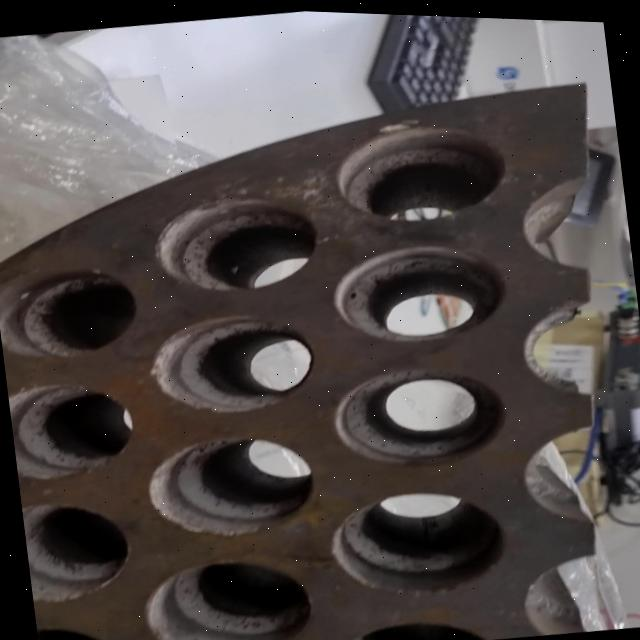Hole: (324, 476, 512, 604), (326, 350, 514, 474), (330, 105, 513, 230), (327, 229, 513, 351), (140, 423, 320, 546), (144, 302, 320, 424), (148, 184, 322, 300), (137, 545, 317, 640), (0, 259, 142, 366), (7, 373, 138, 487), (21, 495, 135, 607), (331, 607, 496, 640), (35, 616, 127, 640)
